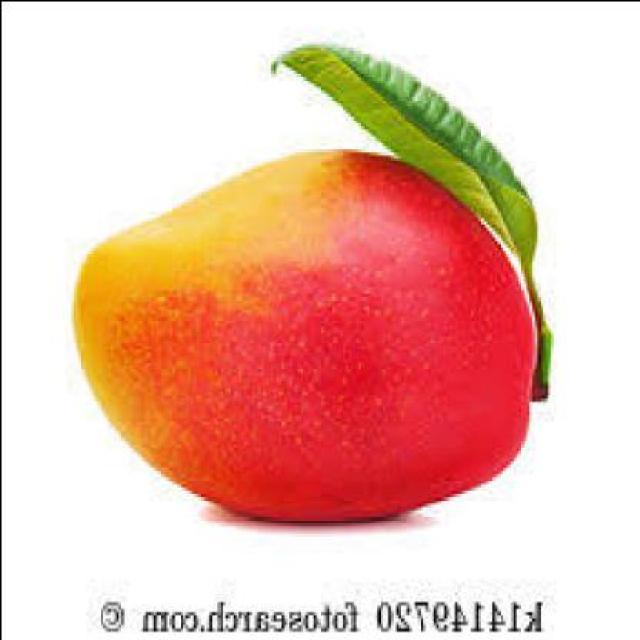BIODEGRADABLE: (75, 151, 539, 521), (283, 46, 552, 399), (271, 58, 278, 74)
